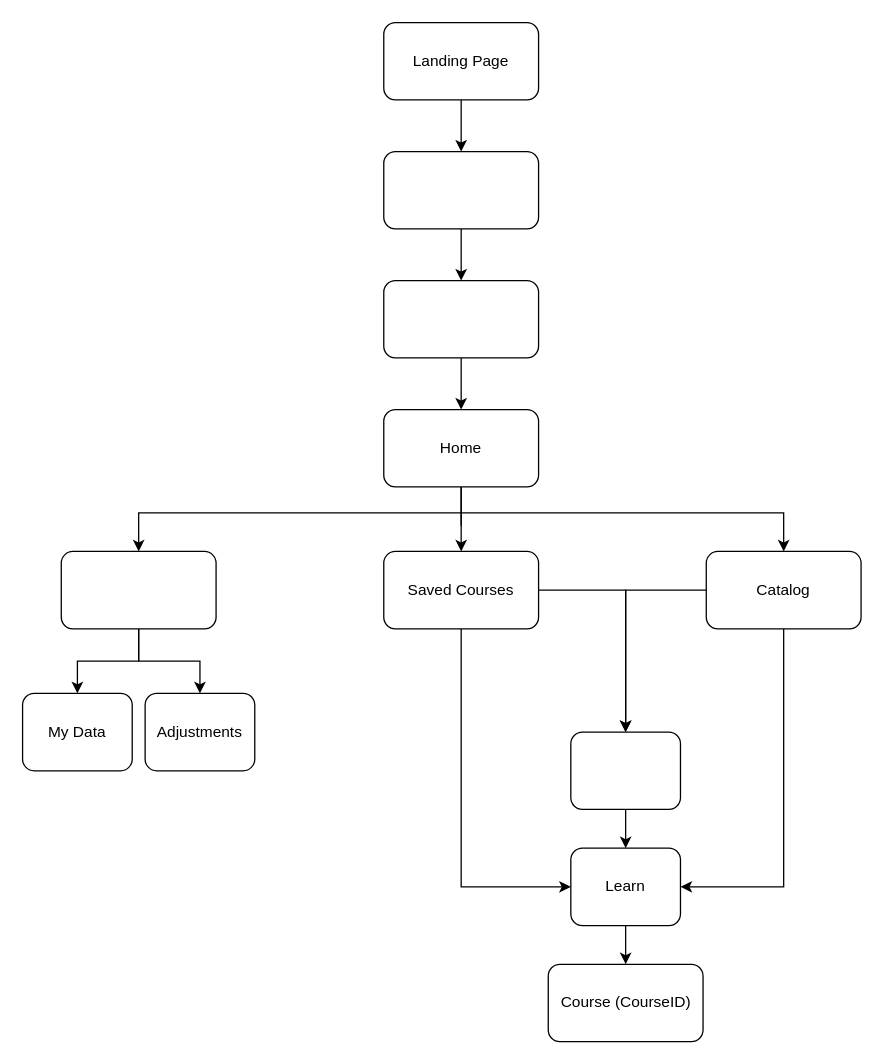
This 884x1064 diagram has some shape labels left out. Each missing label, with the centre of its shape:
"Current place of study" goes at point (460, 318).
"Login" goes at point (460, 189).
"My Profile" goes at point (138, 589).
"Title Page" goes at point (625, 770).
